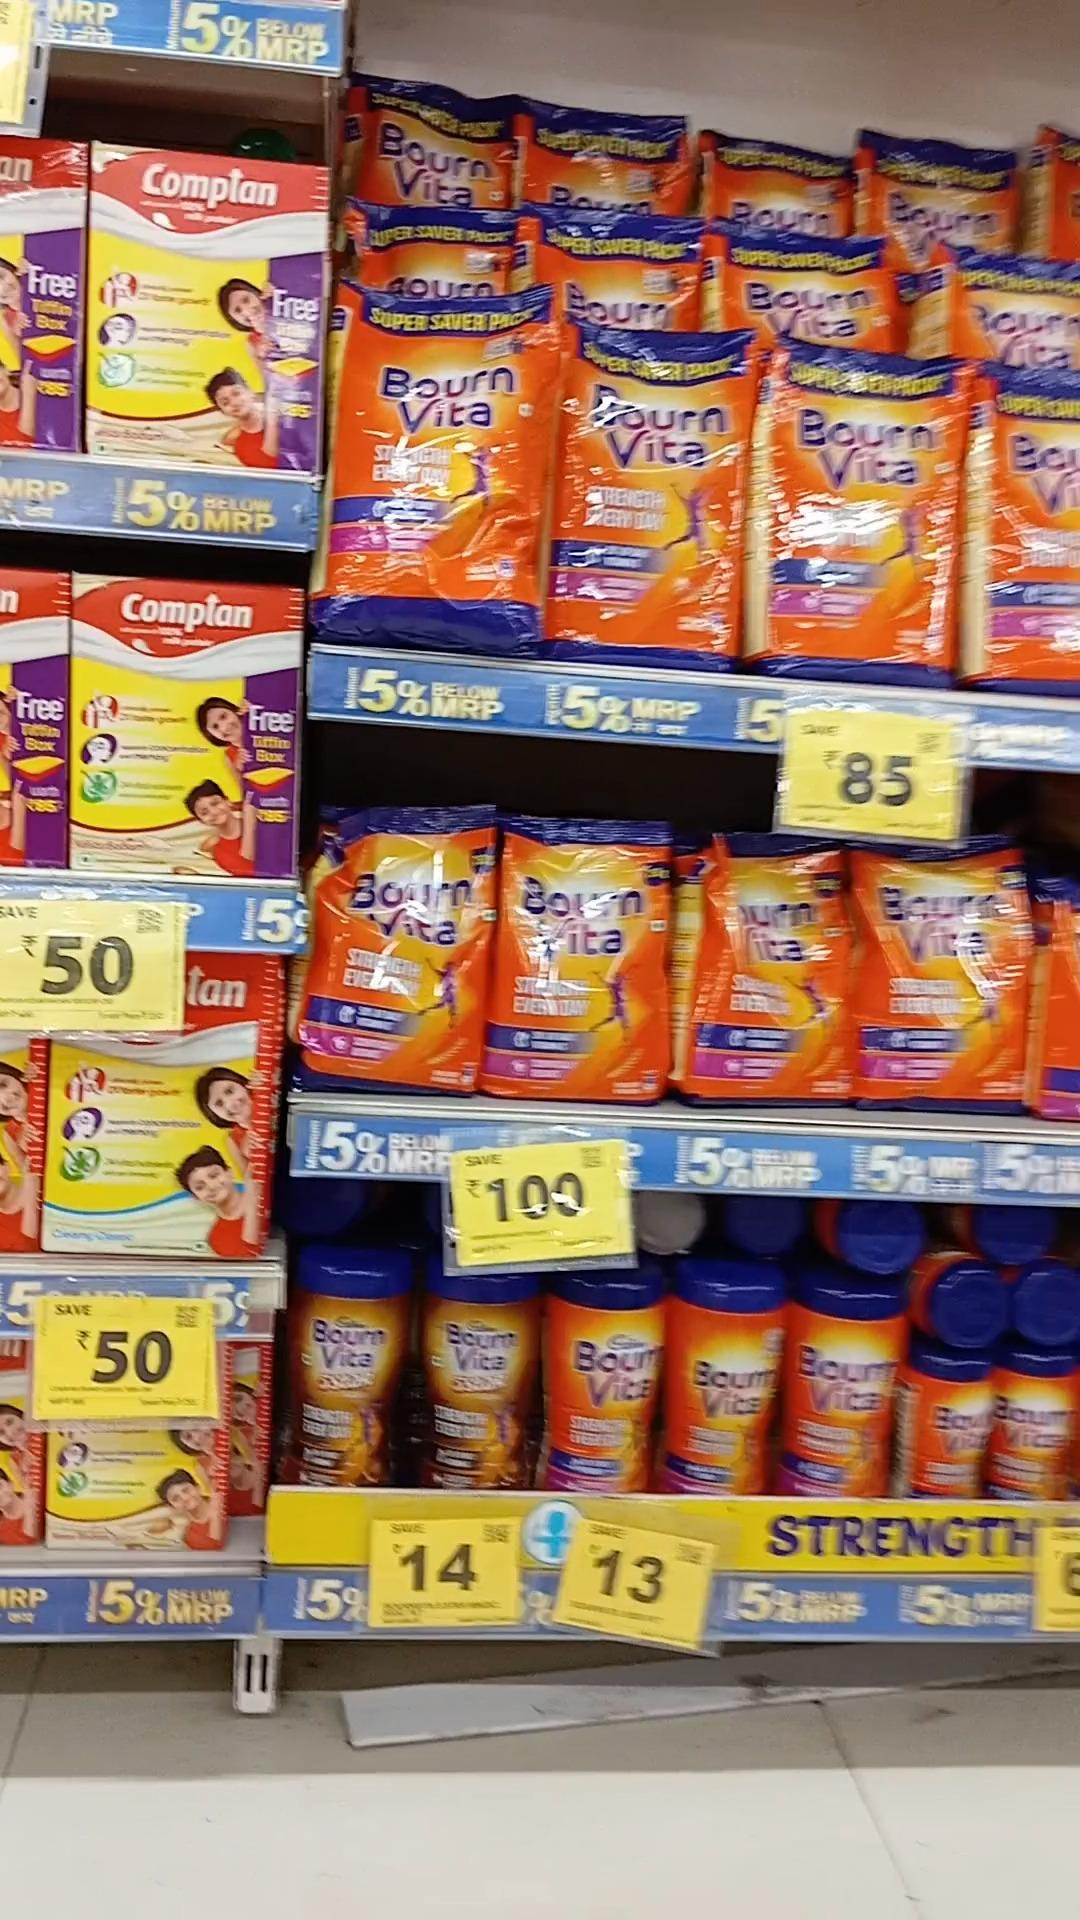BOURN_VITA_1_KG_JAR: (666, 1254, 777, 1493), (787, 1273, 901, 1499), (543, 1273, 662, 1489)
BOURN_VITA_1_KG_POUCH: (319, 302, 543, 649), (753, 340, 960, 678), (553, 328, 745, 665)
BOURN_VITA_200_G_JAR: (903, 1345, 989, 1499), (996, 1341, 1080, 1497)
BOURN_VITA_750_G_POUCH: (295, 806, 485, 1096), (491, 819, 670, 1105), (856, 843, 1031, 1110), (694, 836, 848, 1105)
BOURN_VITA_FIVE_STAR_MAGIC_500_G_JAR: (280, 1250, 404, 1487), (423, 1278, 534, 1489)
COMPLAN_CREAMY_CLASSIC_500_G_PACK: (37, 1033, 265, 1257)
COMPLAN_KESAR_BADAM_500_GMS_PACK: (82, 148, 315, 472), (69, 575, 290, 877), (40, 1408, 223, 1553)
